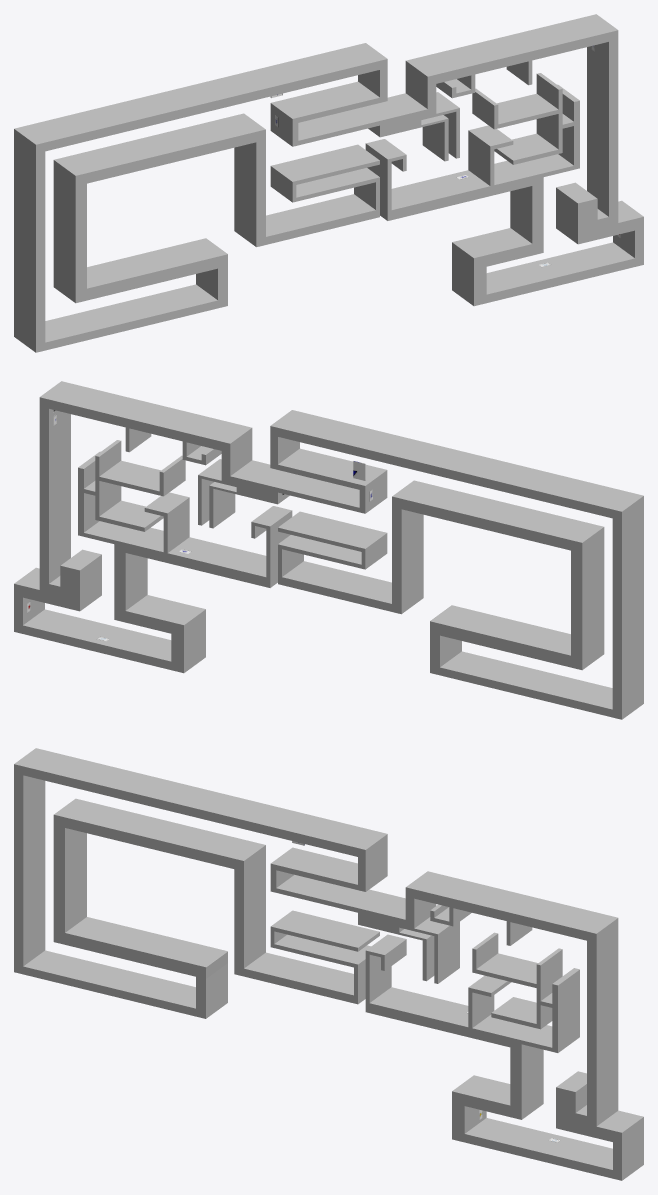
The model's file is finales.obj.
3 views of the same model, one above another, from view 1: azimuth 30°, elevation 25°; view 2: azimuth 150°, elevation 25°; view 3: azimuth 330°, elevation 25° (orthographic).
Parts seen in each view (by area): view 1: arena5; view 2: arena5; view 3: arena5.
Part boxes in pixels (<box>): arena5: <box>14,14,643,352</box>; arena5: <box>14,381,643,719</box>; arena5: <box>14,748,643,1180</box>.
Size of the model in its own units: 28.53 by 12.03 by 1.79.
Materials: 12 (11 with a texture image).
